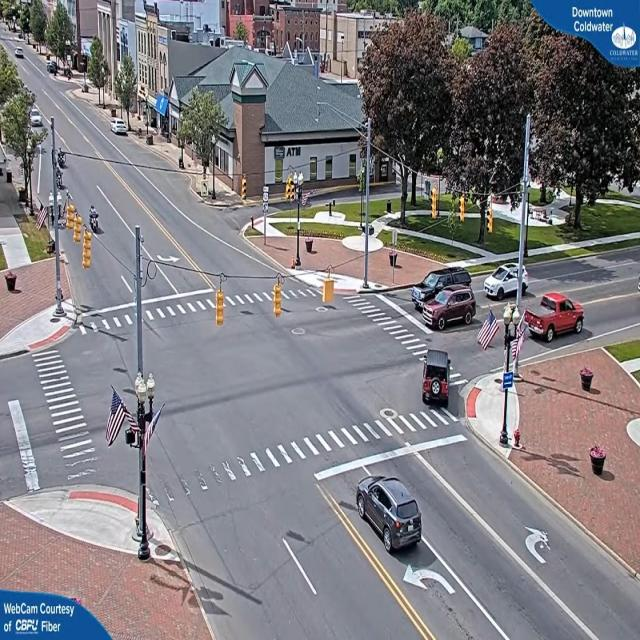car: (358, 479, 424, 556), (528, 291, 585, 342), (426, 288, 480, 329), (416, 267, 471, 304), (420, 351, 454, 406), (485, 265, 524, 300), (111, 119, 129, 136), (16, 50, 26, 61)
motorbike: (91, 207, 100, 234)
